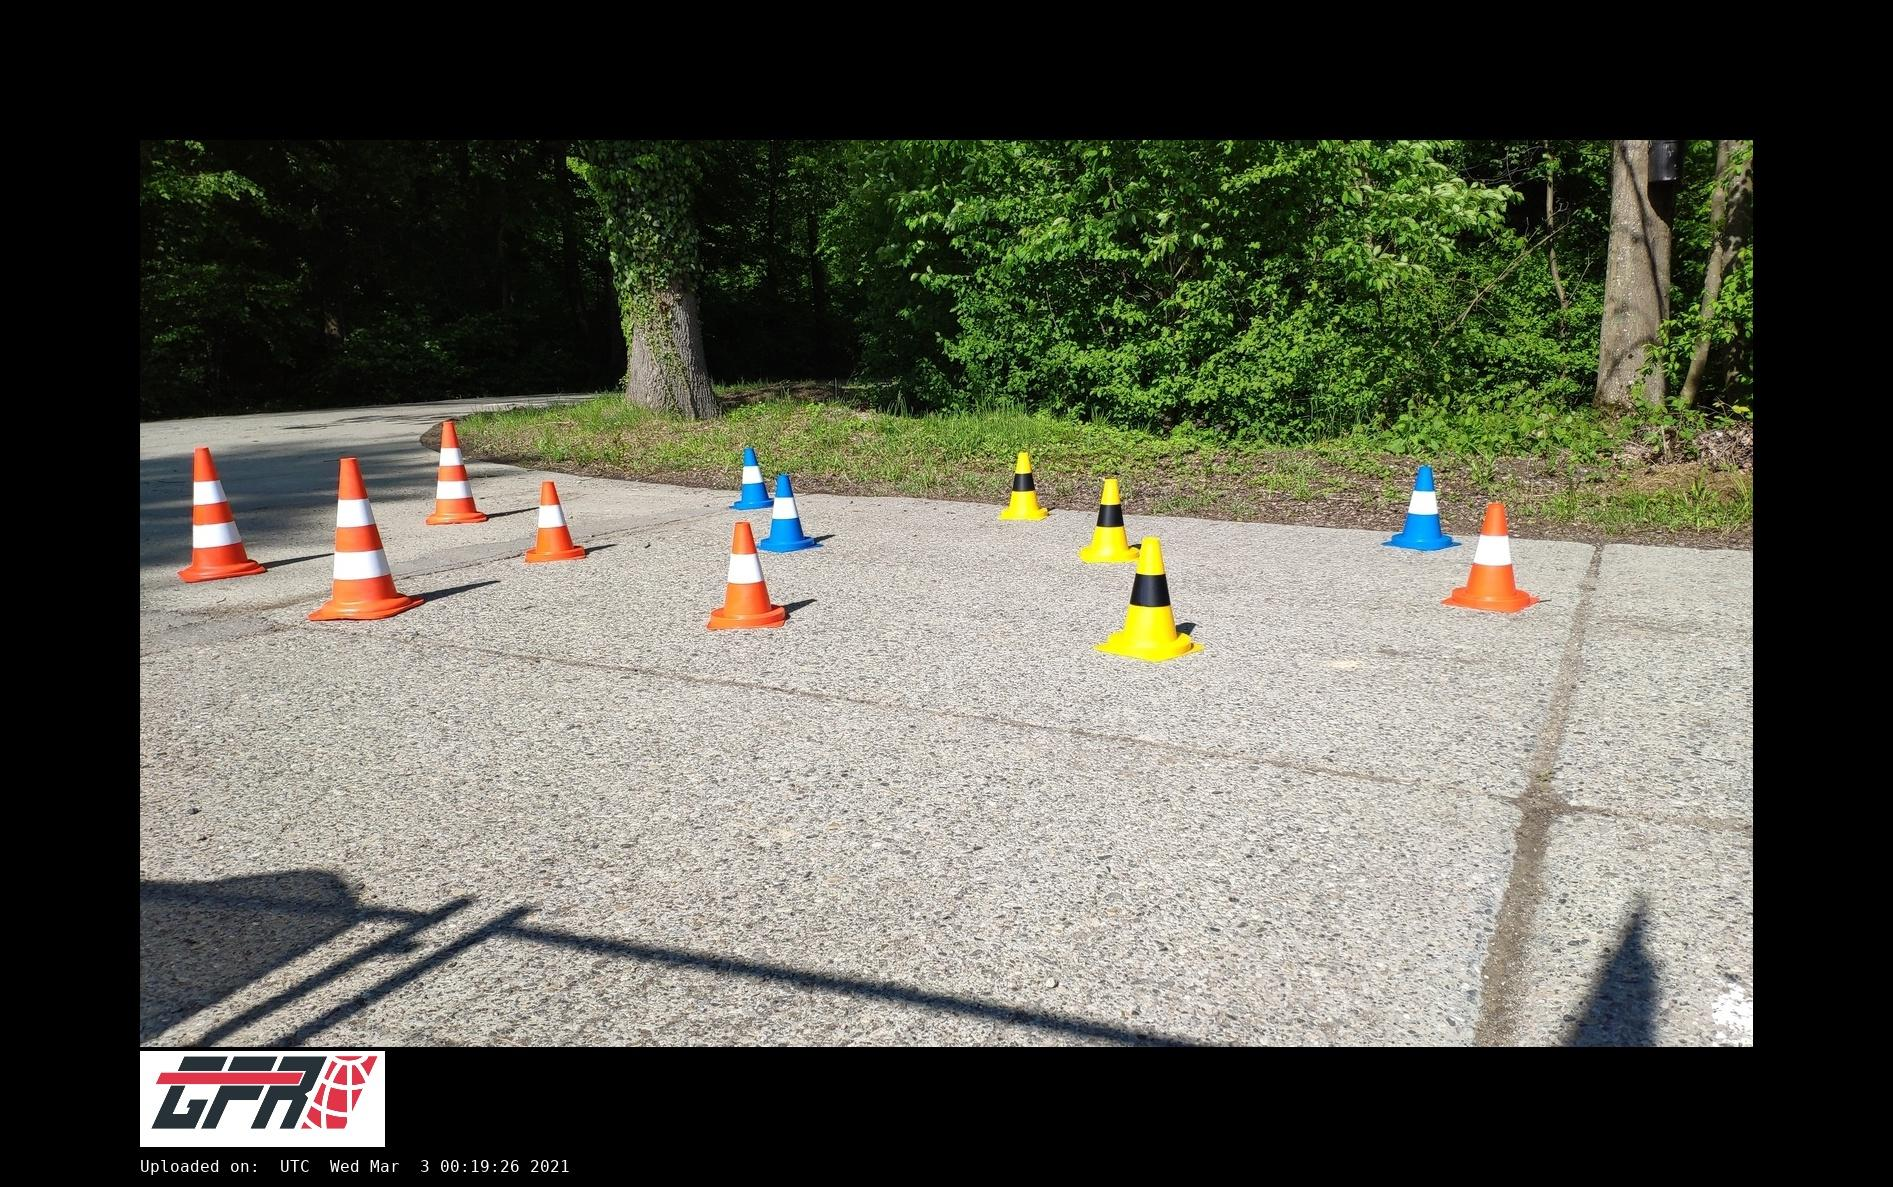blue_cone: (1383, 466, 1462, 551), (756, 475, 823, 552), (733, 449, 774, 510)
large_orange_cone: (309, 457, 424, 621), (182, 447, 265, 583), (429, 421, 487, 524)
orange_cone: (1443, 505, 1538, 613), (707, 522, 785, 629), (526, 481, 585, 562)
yellow_cone: (1095, 537, 1204, 661), (1078, 479, 1139, 562), (999, 453, 1048, 520)
